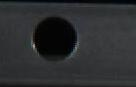holes: (29, 15, 80, 62)
